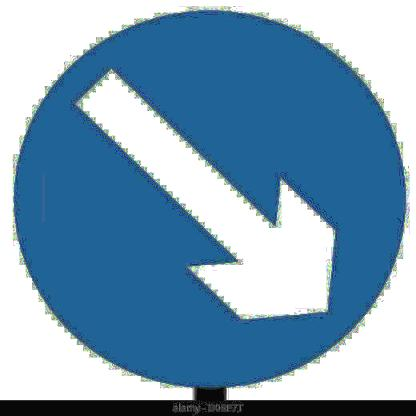Keep right: (8, 4, 416, 390)
